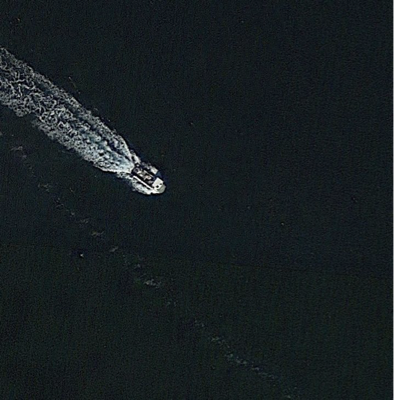boat: (127, 160, 168, 197)
